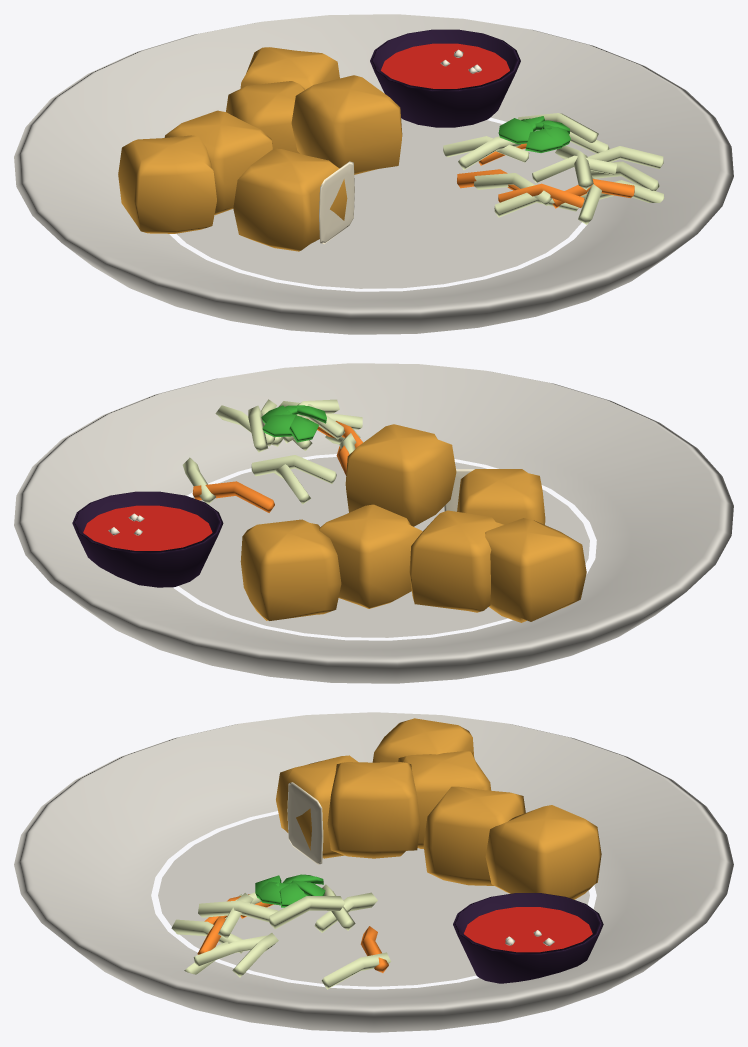
3 renders of one model, top to bottom at view 1: azimuth 30°, elevation 25°; view 2: azimuth 150°, elevation 25°; view 3: azimuth 270°, elevation 25°, orthographic.
Visible parts, largest first — view 1: plate, tofu (×6), plate_well, cabbage (×13), sauce_dish, chili_sauce, tofu_inside, cilantro (×2); view 2: plate, tofu (×6), plate_well, sauce_dish, cabbage (×6), chili_sauce, cilantro (×2); view 3: plate, tofu (×6), plate_well, cabbage (×8), sauce_dish, chili_sauce, tofu_inside.
Boxes of the visible parts, x1,y1,x2,y2 form: plate: [14, 14, 733, 334]; tofu (×6): [118, 47, 402, 251]; plate_well: [176, 118, 581, 288]; cabbage (×13): [443, 113, 664, 224]; sauce_dish: [370, 29, 520, 127]; chili_sauce: [381, 43, 509, 88]; tofu_inside: [319, 161, 354, 243]; cilantro (×2): [498, 118, 562, 152]; plate: [14, 363, 733, 683]; tofu (×6): [240, 424, 586, 622]; plate_well: [179, 457, 589, 637]; sauce_dish: [72, 491, 223, 587]; cabbage (×6): [182, 405, 336, 512]; chili_sauce: [83, 505, 212, 550]; cilantro (×2): [262, 414, 318, 442]; plate: [14, 712, 733, 1032]; tofu (×6): [276, 718, 601, 899]; plate_well: [158, 814, 589, 986]; cabbage (×8): [171, 892, 391, 989]; sauce_dish: [453, 893, 603, 983]; chili_sauce: [464, 907, 592, 952]; tofu_inside: [287, 782, 323, 864].
Bounding box in the file's own units: 0.21 × 0.0447 × 0.21.
